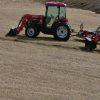Tractor: (13, 2, 83, 50)
